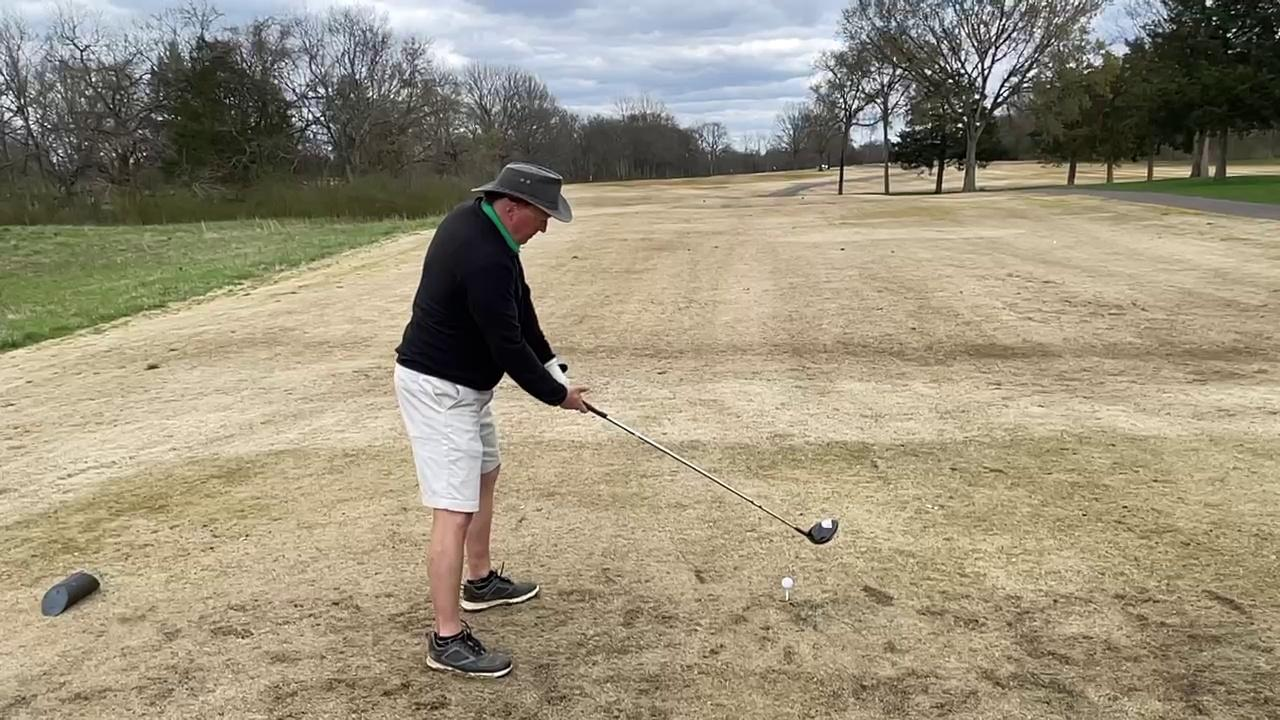ClubHead: (799, 515, 842, 549)
GolfBall: (779, 575, 796, 592)
